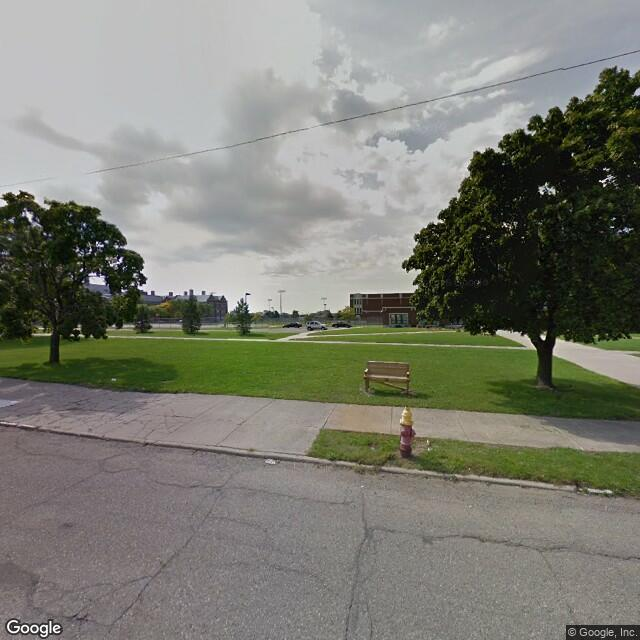litter: (259, 454, 280, 466), (108, 378, 119, 382)
